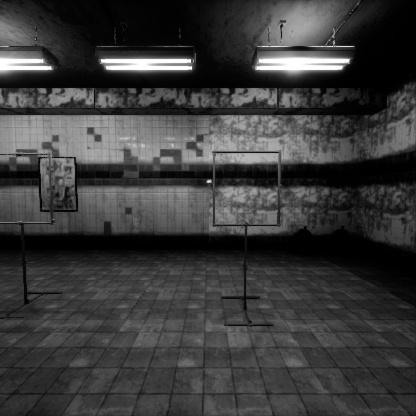gate: (213, 189, 287, 265)
